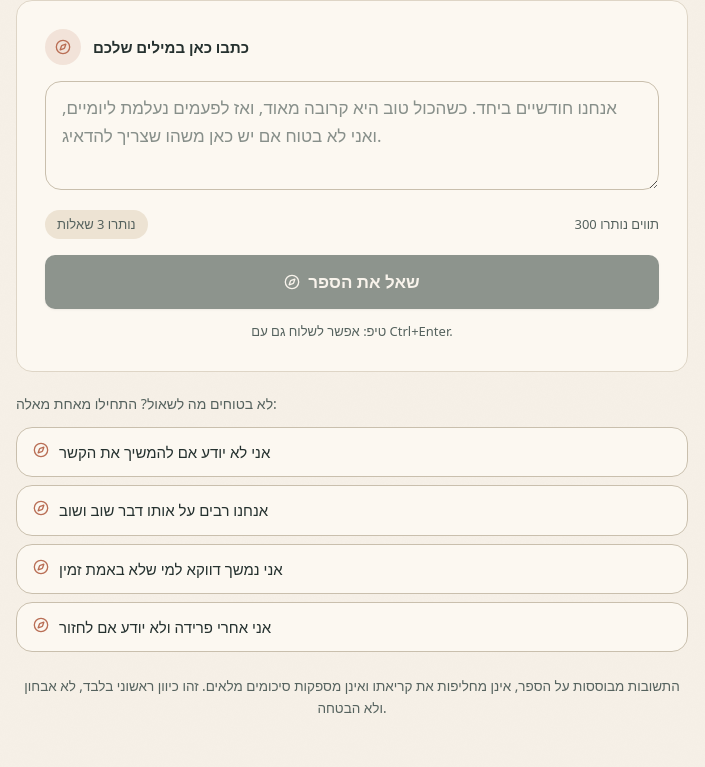
Scenario: CompassConsole, starters + unified conversion CTA › runs the full query flow on a starter click and reveals the conversion CTA only after success
Expected: the text box labelled "כתבו כאן במילים שלכם" is shown, [45, 81, 659, 190]
Click the button "אני לא יודע אם להמשיך את הקשר" at (165, 452), box [16, 427, 688, 477]
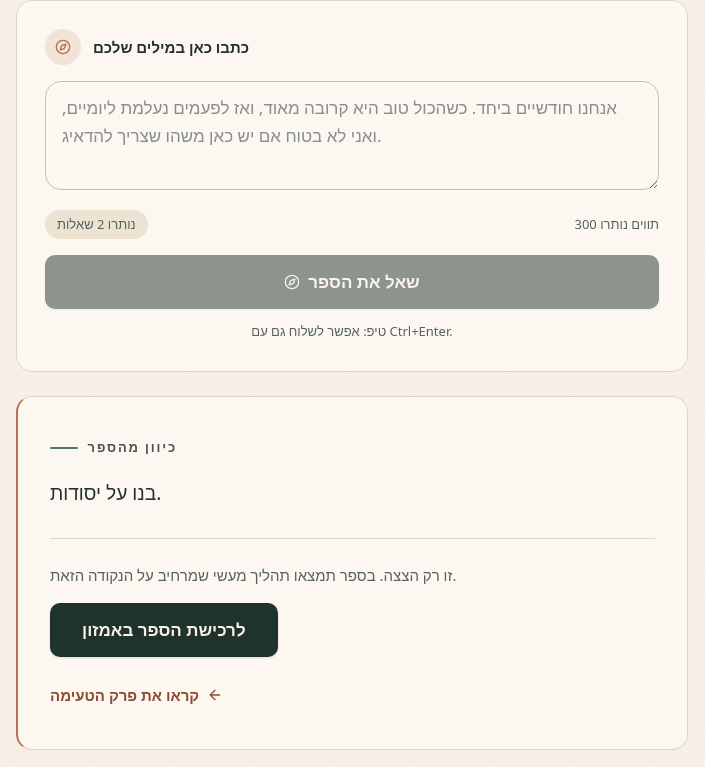
Result: the text "בנו על יסודות." is shown at [50, 478, 161, 506]
Result: the link "לרכישת הספר באמזון" is shown at [50, 603, 278, 657]
